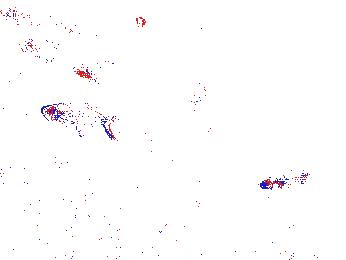red belly glassfish: (260, 172, 309, 193)
redtail glassfish: (18, 37, 110, 86), (39, 102, 124, 142), (1, 5, 91, 42)
